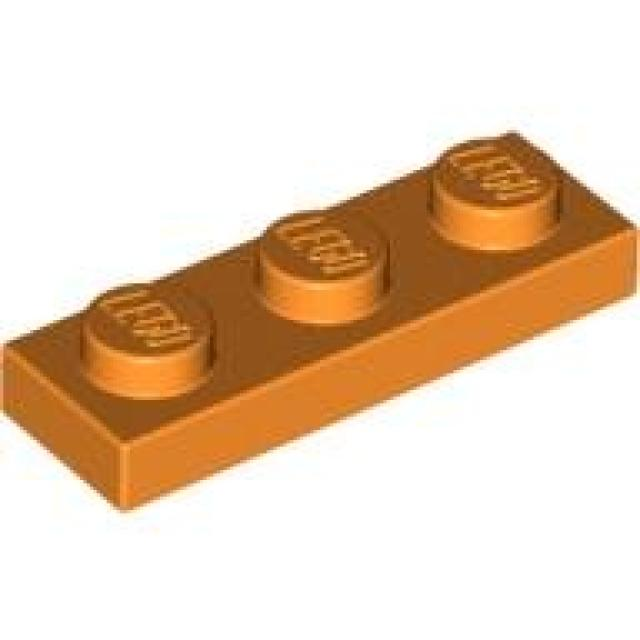Orange_Medium: (0, 133, 640, 513)
